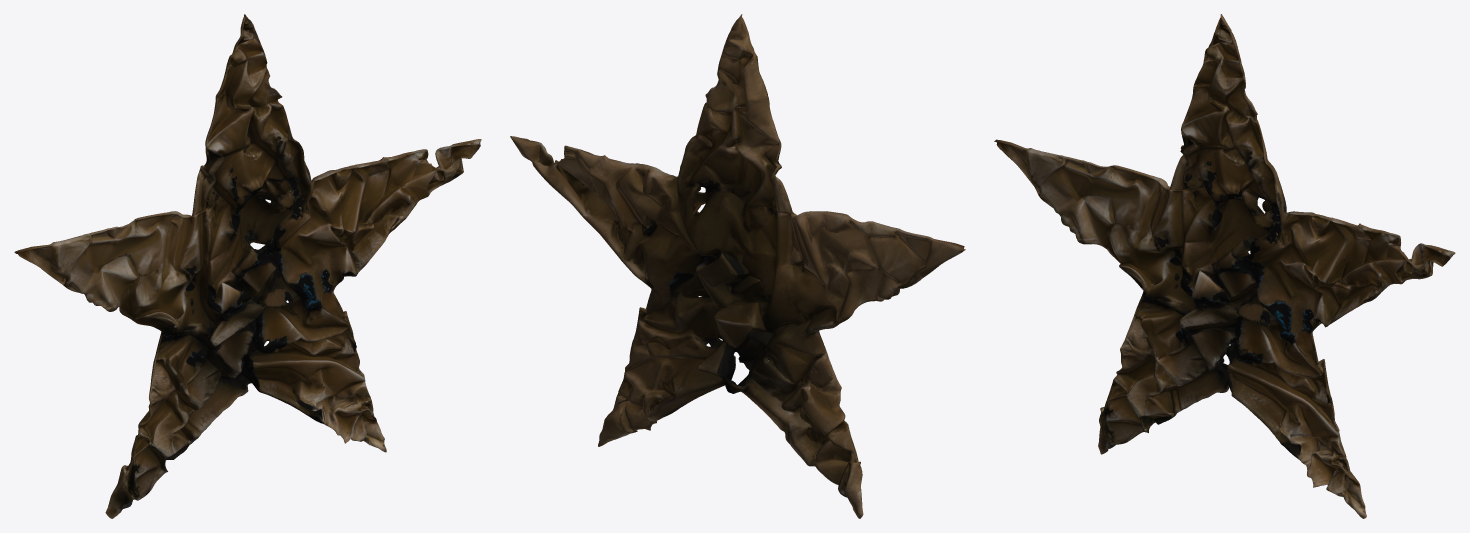
The picture shows the model from 3 angles, left to right: view 1: azimuth 30°, elevation 25°; view 2: azimuth 150°, elevation 25°; view 3: azimuth 330°, elevation 25°; orthographic projection.
Parts seen in each view (by area): view 1: material; view 2: material; view 3: material.
Boxes of the visible parts, x1,y1,x2,y2 form: material: [14, 14, 481, 518]; material: [510, 14, 965, 518]; material: [994, 14, 1455, 518].
Size of the model in its own units: 1.06 by 1.04 by 0.0975.
Materials: 1 (1 with a texture image).
